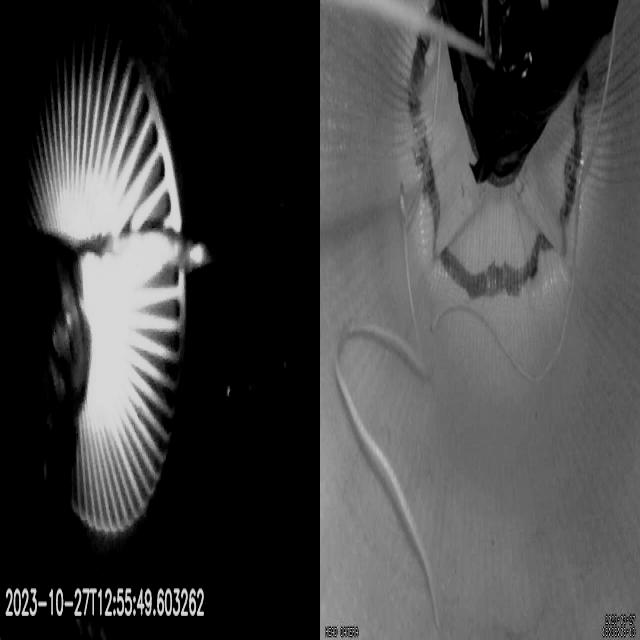red-circle: (407, 0, 589, 301)
